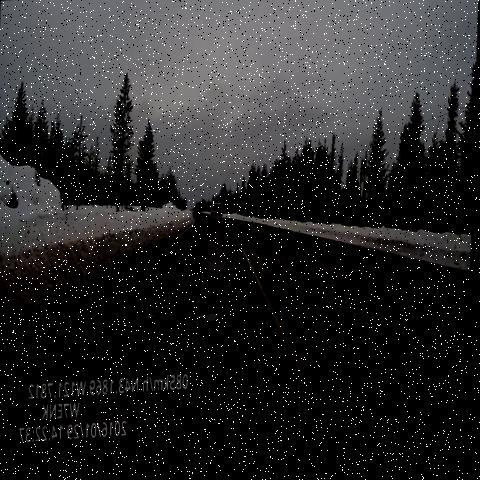pothole: (119, 302, 170, 365), (187, 290, 235, 354)
